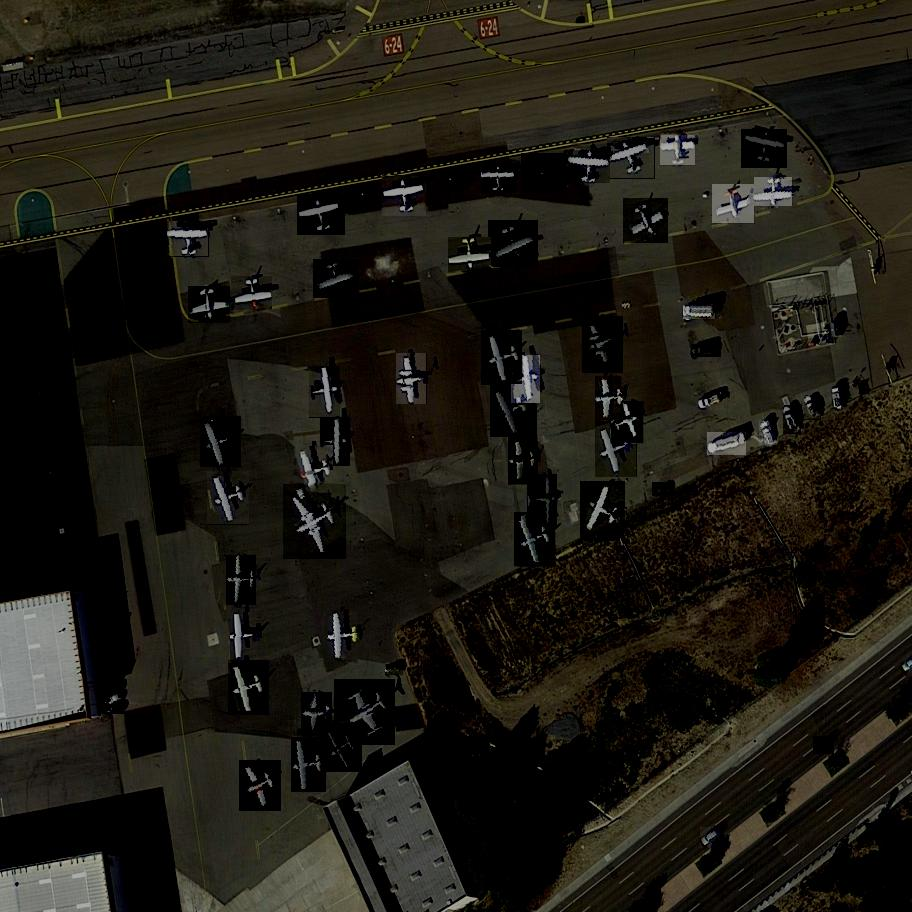large-vehicle: (706, 432, 747, 455), (783, 405, 804, 434), (698, 391, 728, 410), (759, 420, 778, 447), (804, 396, 824, 421), (684, 306, 715, 320), (691, 344, 721, 357), (832, 387, 844, 411)
plane: (282, 484, 347, 560), (331, 679, 399, 745), (578, 481, 627, 541), (490, 381, 537, 437), (594, 421, 639, 477), (582, 317, 626, 373), (487, 221, 539, 268), (227, 660, 270, 716), (514, 512, 557, 567), (481, 331, 524, 386), (208, 472, 250, 526), (200, 415, 242, 468), (239, 761, 282, 812), (622, 198, 669, 243), (608, 138, 657, 181), (294, 446, 333, 500), (322, 722, 364, 772), (296, 195, 346, 236), (291, 738, 327, 793), (382, 177, 429, 217), (740, 130, 788, 168), (711, 184, 756, 224), (521, 154, 567, 193), (313, 260, 359, 299), (396, 353, 429, 404), (308, 366, 341, 417), (187, 287, 232, 324), (448, 237, 492, 273), (565, 149, 610, 184), (611, 401, 646, 445), (227, 555, 257, 606), (168, 222, 209, 258), (320, 417, 350, 466), (231, 276, 273, 311), (508, 436, 538, 485), (329, 611, 359, 659), (512, 355, 542, 403), (528, 475, 556, 526), (302, 692, 332, 737), (231, 612, 259, 660), (752, 177, 794, 206), (596, 376, 622, 421), (660, 136, 696, 166), (482, 167, 516, 193)
small-vehicle: (700, 828, 724, 848), (814, 736, 835, 754), (89, 610, 112, 626), (652, 483, 675, 497), (105, 692, 126, 707), (82, 575, 106, 588), (105, 702, 126, 716), (385, 665, 404, 677), (93, 636, 110, 646), (105, 684, 122, 691)
